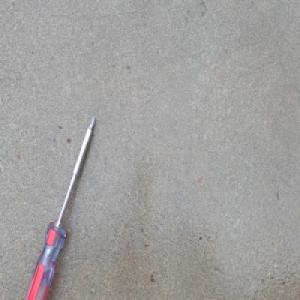Screwdriver: (21, 114, 96, 299)
